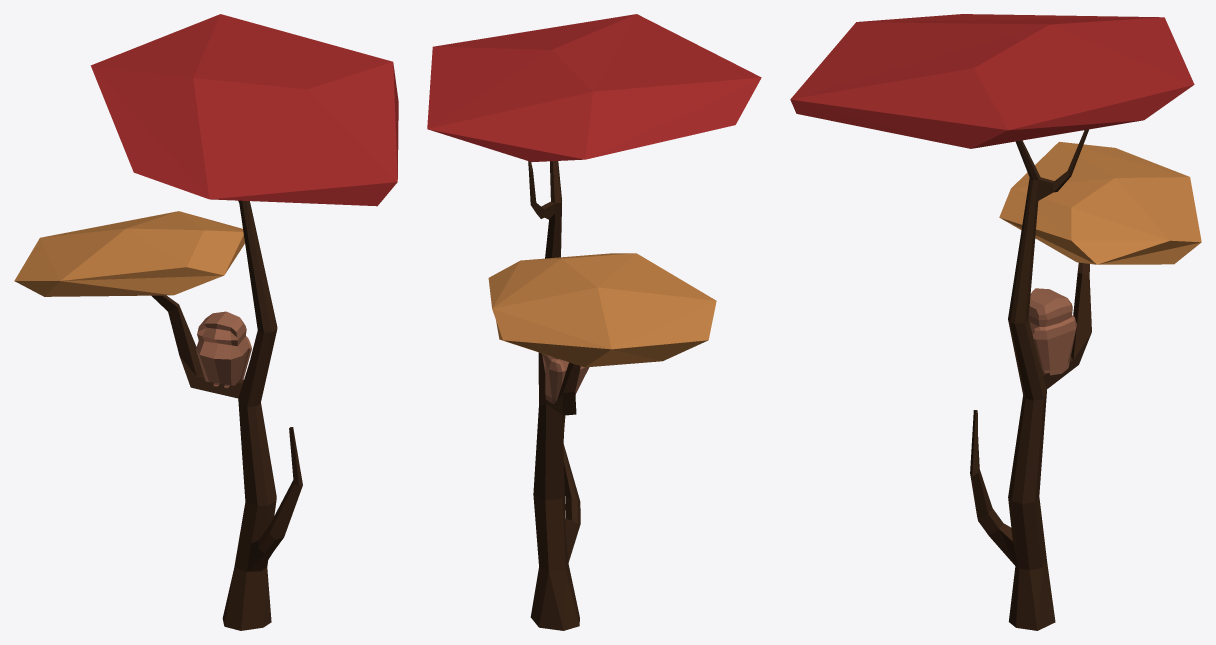
The model's file is TallTreeWithOwl.fbx.
3 renders of one model, left to right at view 1: azimuth 30°, elevation 25°; view 2: azimuth 150°, elevation 25°; view 3: azimuth 270°, elevation 25°, orthographic. The views are drawn at different scales.
Visible parts, largest first — view 1: Icosphere.007, Owl; view 2: Icosphere.007, Owl; view 3: Icosphere.007, Owl.
Boxes of the visible parts, left/top/right/bottom form: Icosphere.007: left=14, top=14, right=398, bottom=630; Owl: left=196, top=311, right=251, bottom=388; Icosphere.007: left=427, top=14, right=761, bottom=630; Owl: left=542, top=353, right=589, bottom=403; Icosphere.007: left=790, top=14, right=1201, bottom=630; Owl: left=1028, top=288, right=1076, bottom=375.
Bounding box in the file's own units: 11.83 × 18.88 × 12.32.
